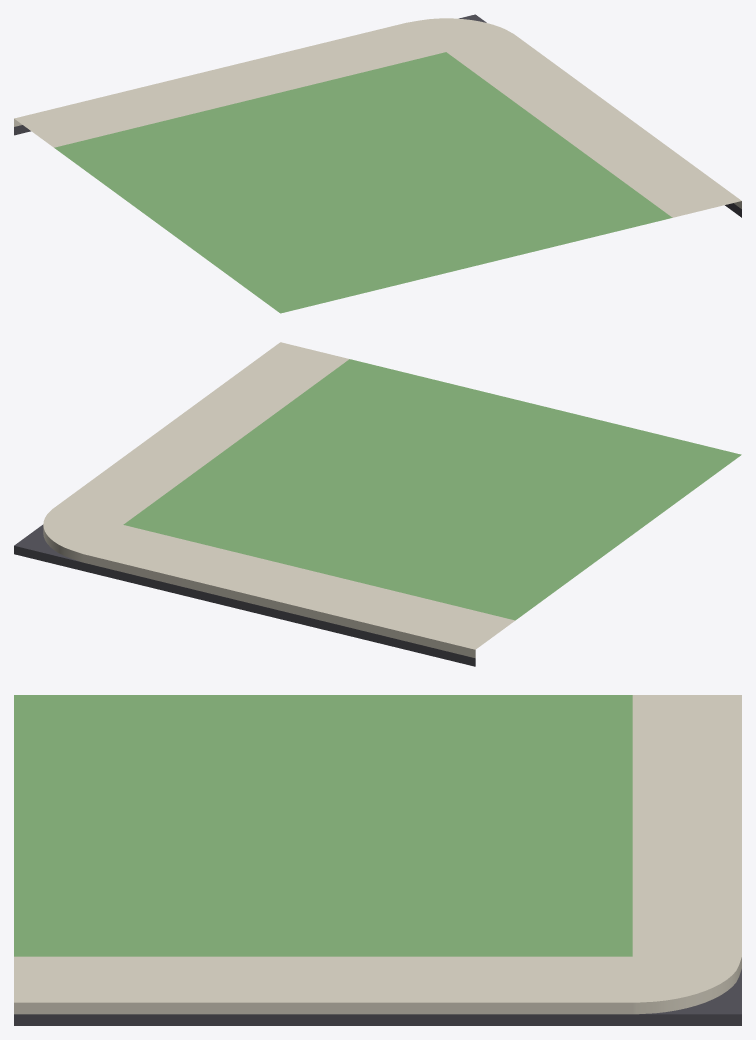
Rendered from grass_Intersection_edge.fbx.
The picture shows the model from 3 angles, top to bottom: view 1: azimuth 30°, elevation 25°; view 2: azimuth 150°, elevation 25°; view 3: azimuth 270°, elevation 25°; orthographic projection. The views are drawn at different scales.
Visible parts, largest first — view 1: grass_intersection_edge; view 2: grass_intersection_edge; view 3: grass_intersection_edge.
Part boxes in pixels (left/top/right/bottom): grass_intersection_edge: left=14, top=14, right=741, bottom=313; grass_intersection_edge: left=14, top=342, right=741, bottom=666; grass_intersection_edge: left=14, top=695, right=741, bottom=1025.
Bounding box in the file's own units: 1000 × 35.23 × 1000.
